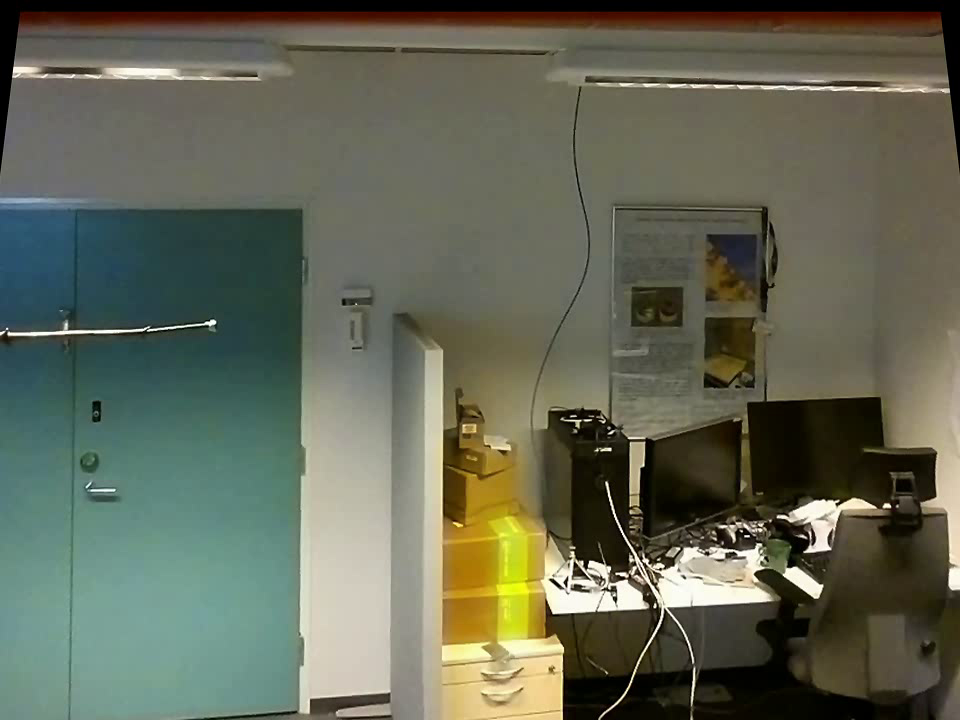branch: (0, 312, 203, 351)
